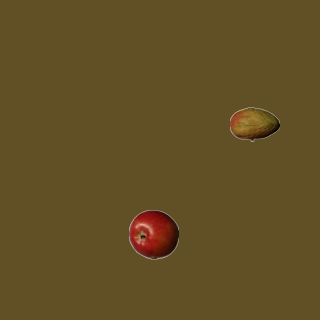Apple Braeburn: (128, 209, 178, 259)
Papaya: (229, 99, 279, 149)
